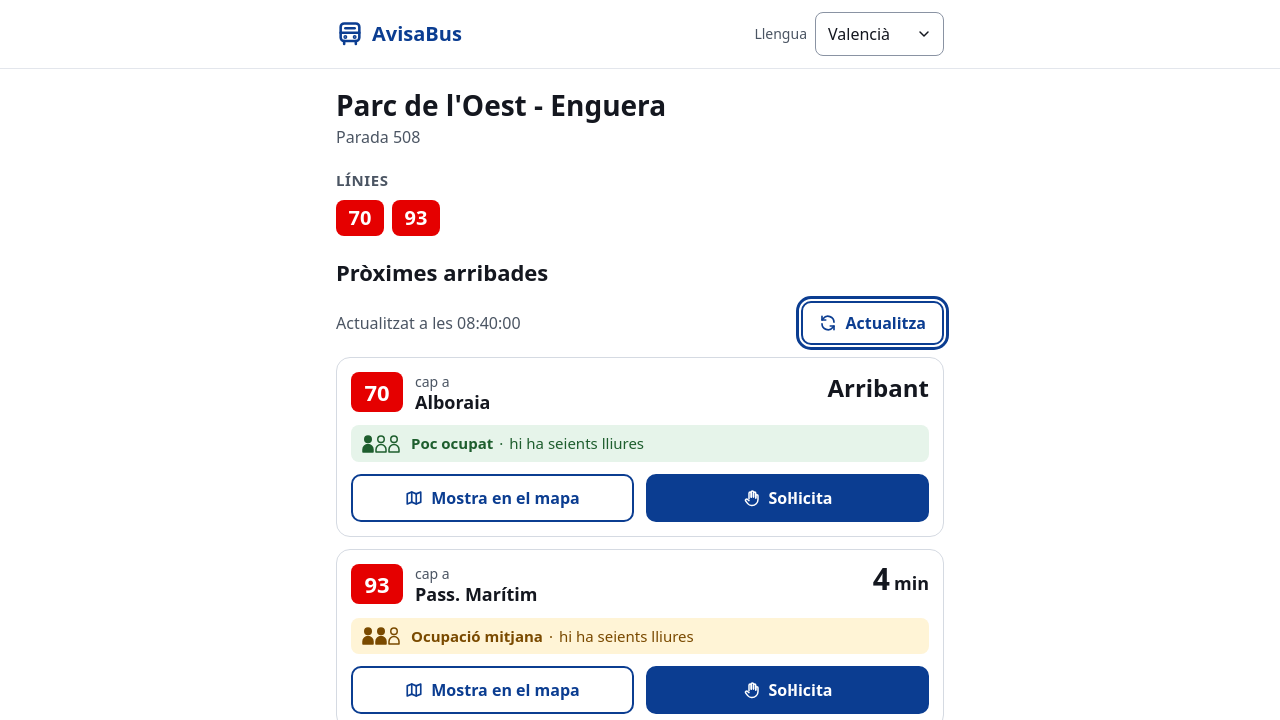
Test: StopPage errors and connectivity › [passenger_stop_view.AC-24] [passenger_stop_view.AC-16] "Actualitza" answered with a 404 moves the focus to the "Parada no encontrada" h1 without announcement (
The width and height of the screenshot is (1280, 720).
Step 1. Click the button "Actualitza" → coordinates (873, 323), box x1=801 y1=301 x2=944 y2=345
Wait 100 ms
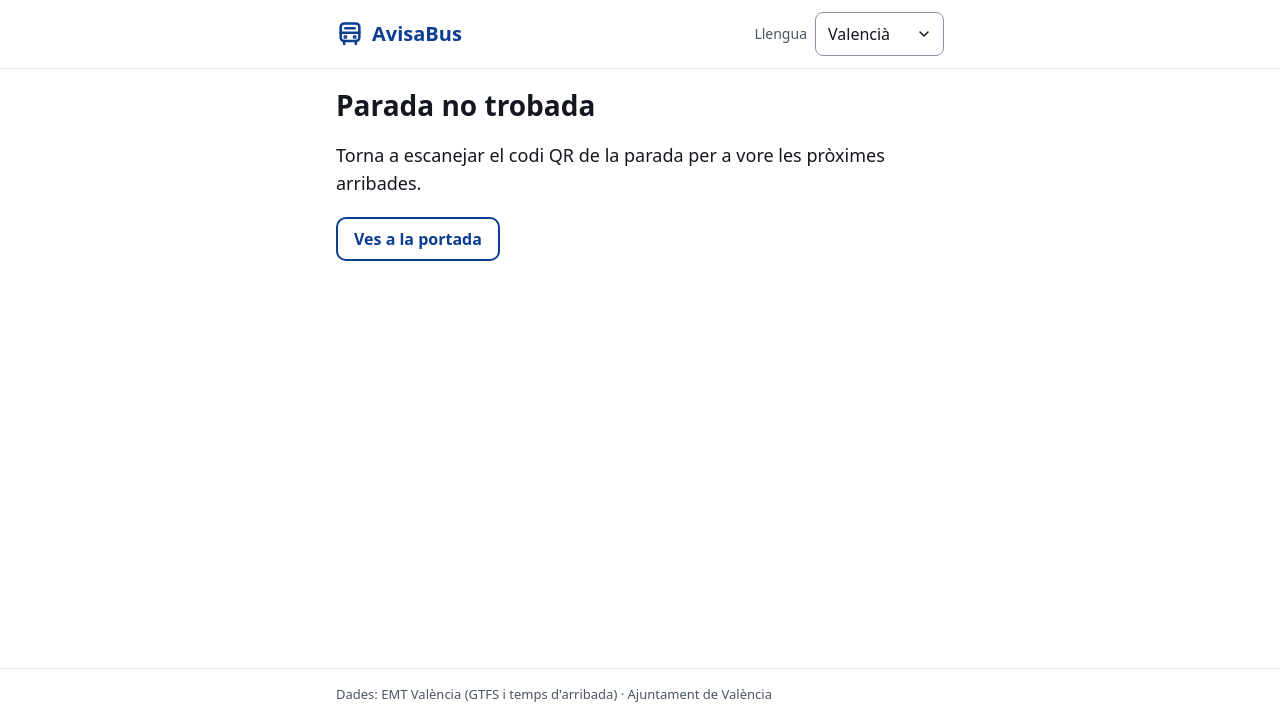
Now the heading reads "Parada no trobada", box x1=336 y1=86 x2=595 y2=124
